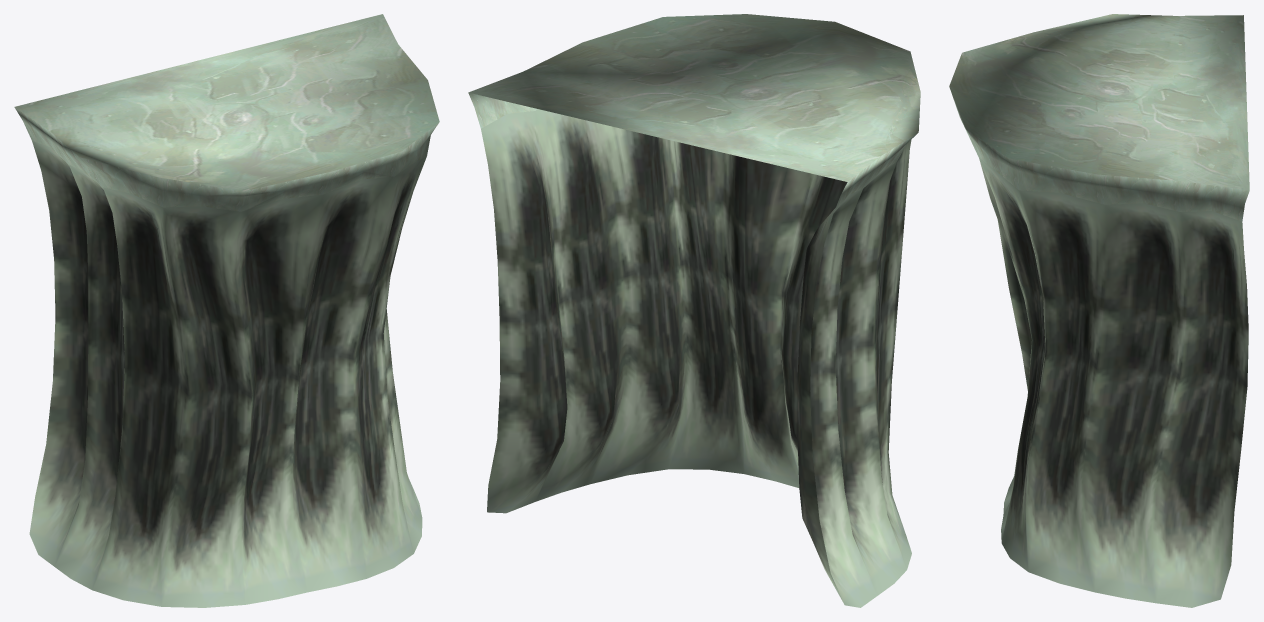
Rendered from TROLLHOLE02_MAINCAVEPLATFORM07.fbx.
3 renders of one model, left to right at view 1: azimuth 30°, elevation 25°; view 2: azimuth 150°, elevation 25°; view 3: azimuth 270°, elevation 25°, orthographic. The views are drawn at different scales.
Visible parts, largest first — view 1: TROLLHOLE02_MAINCAVEPLATFORM07; view 2: TROLLHOLE02_MAINCAVEPLATFORM07; view 3: TROLLHOLE02_MAINCAVEPLATFORM07.
Boxes of the visible parts, x1,y1,x2,y2 form: TROLLHOLE02_MAINCAVEPLATFORM07: (14,14,439,607); TROLLHOLE02_MAINCAVEPLATFORM07: (468,14,920,607); TROLLHOLE02_MAINCAVEPLATFORM07: (949,14,1249,607).
Size of the model in its own units: 39018 by 44070 by 28079.
Materials: 2 (2 with a texture image).
